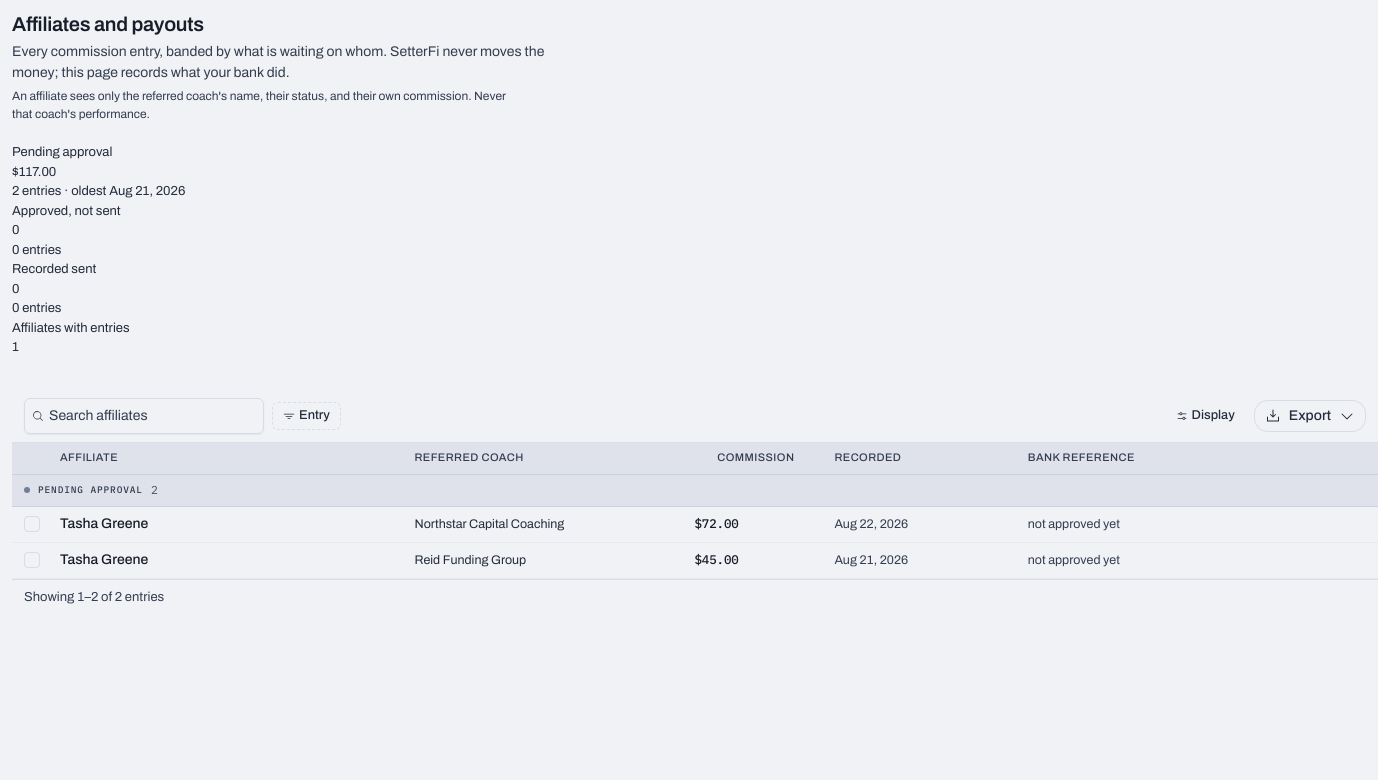
Test case: AdminMoneyAffiliates › shows the bulk approval bar only after a ledger row is selected
Click the checkbox named "Select commission row for Reid Funding Group, $45.00": {"x": 32, "y": 560} [24,552,40,568]
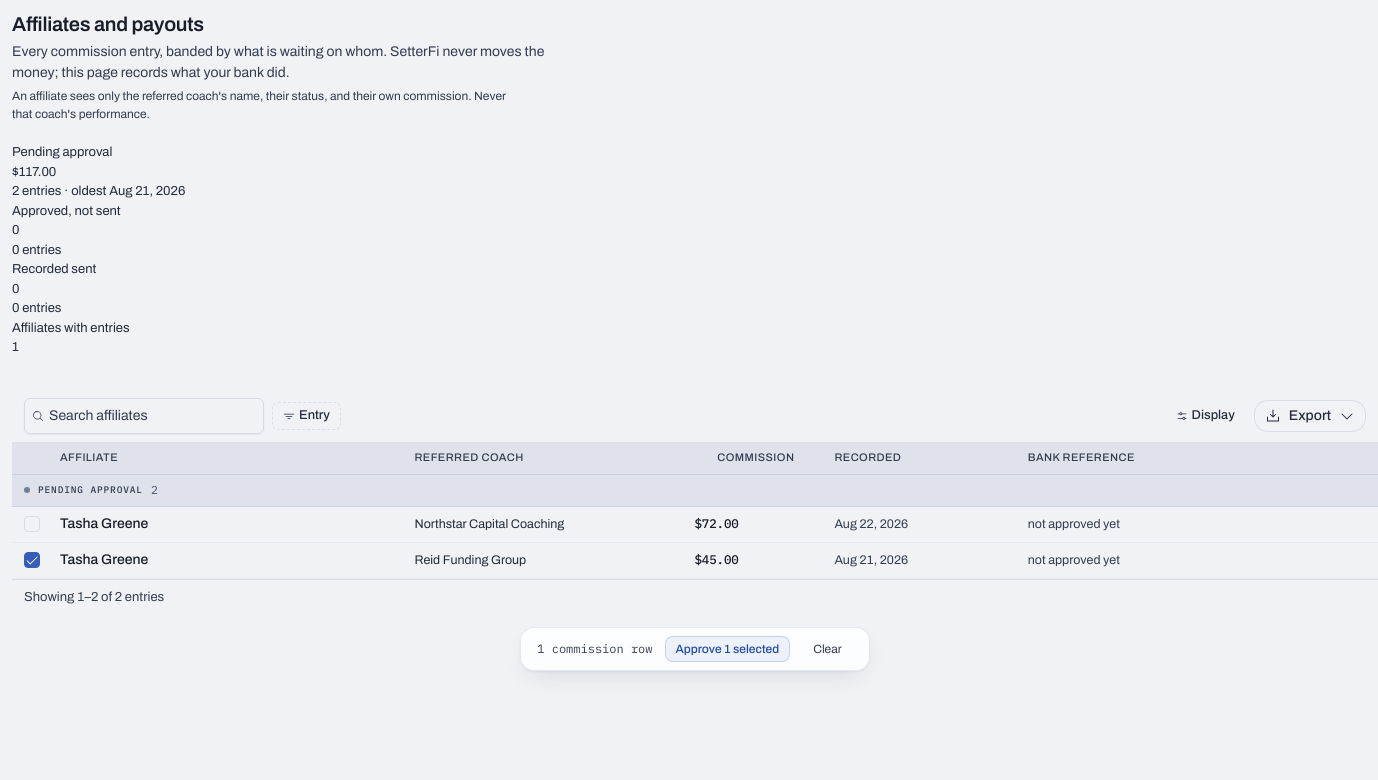
Expected: the button "Approve 1 selected" is shown, [664,636,790,662]
